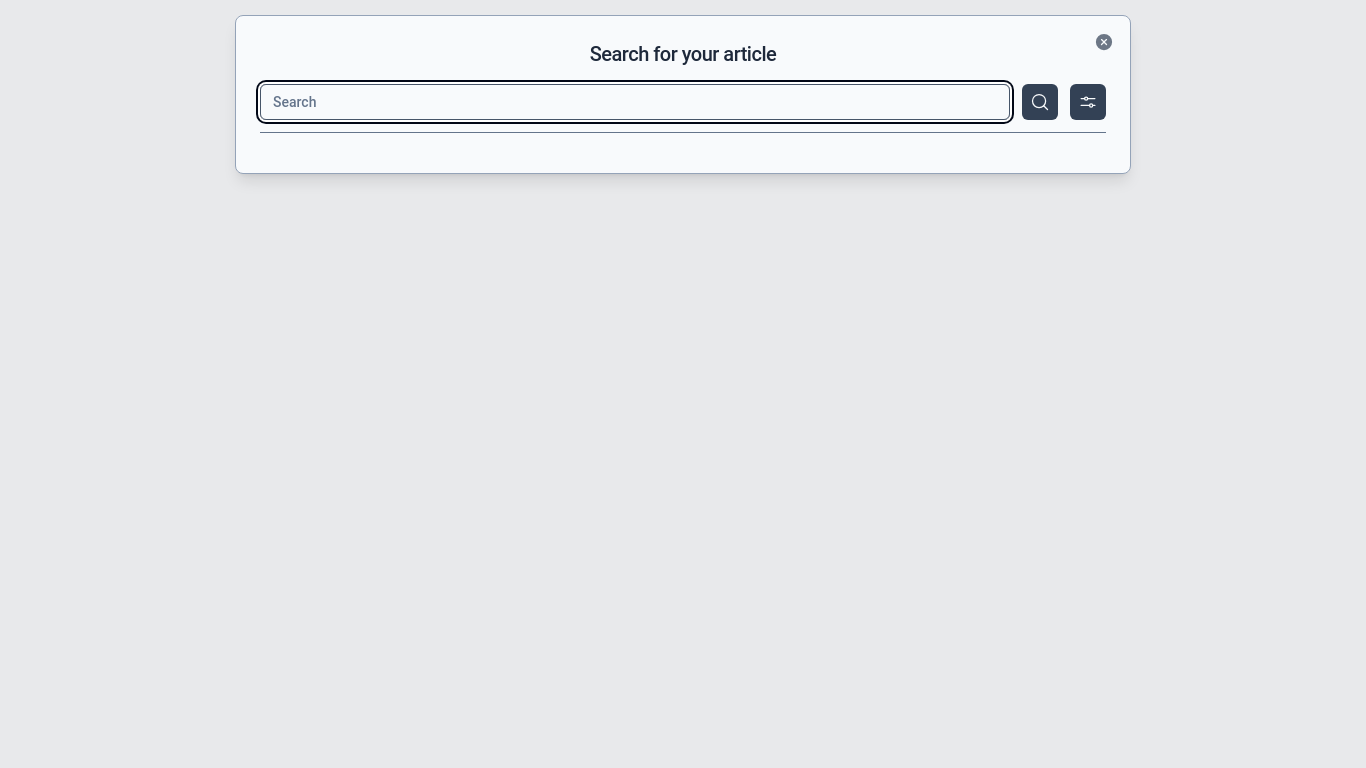
Test: Modal Search › displays an error message when the keyword is too short
Type "ab" into the field with placeholder "Search" at (635,102), box x1=260 y1=84 x2=1010 y2=120
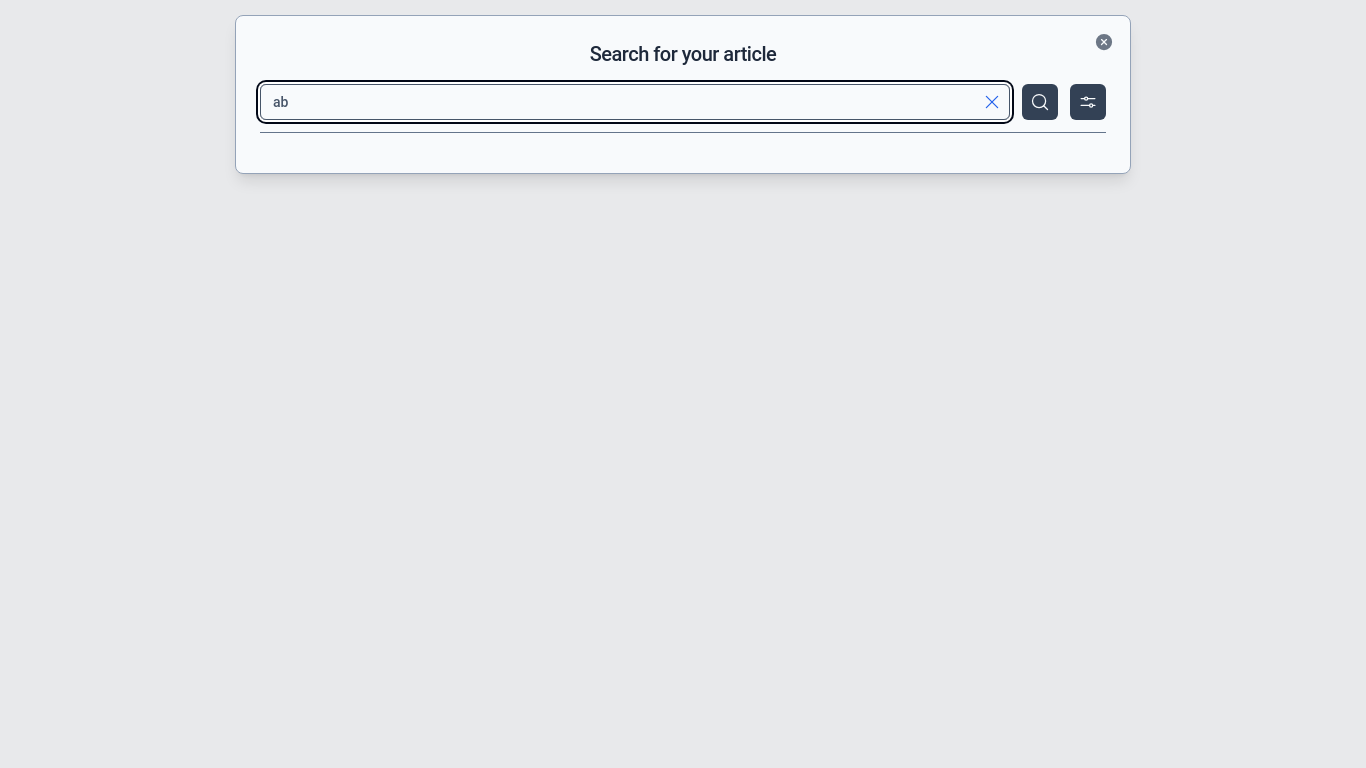
Click the button with test id "submit_btn" at (1040,102), box x1=1022 y1=84 x2=1058 y2=120
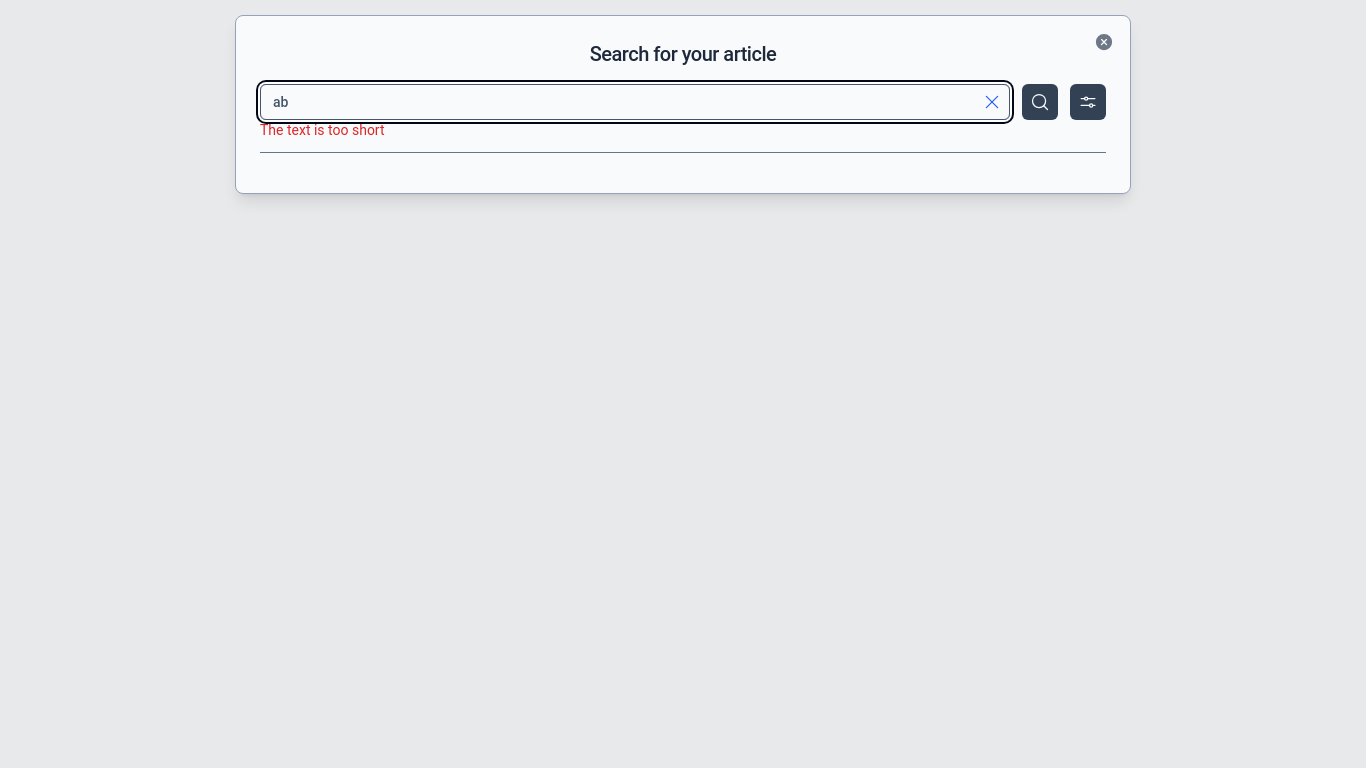
Check: the text "The text is too short" is shown, box x1=260 y1=122 x2=384 y2=138
